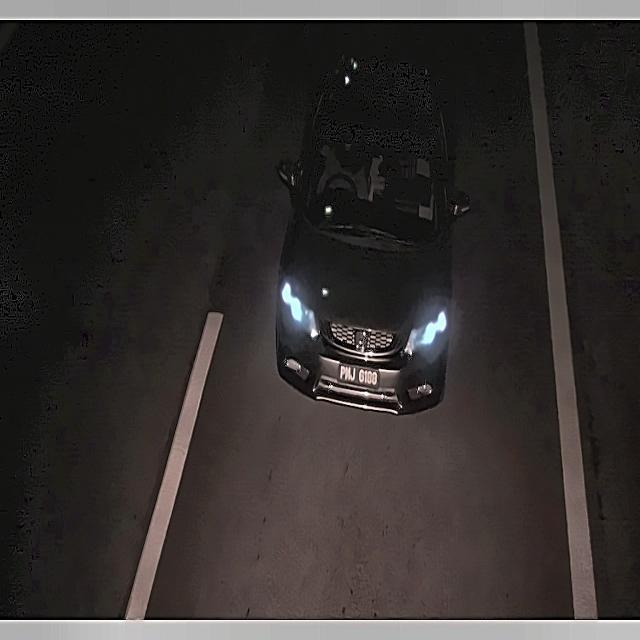car: (337, 361, 383, 394)
